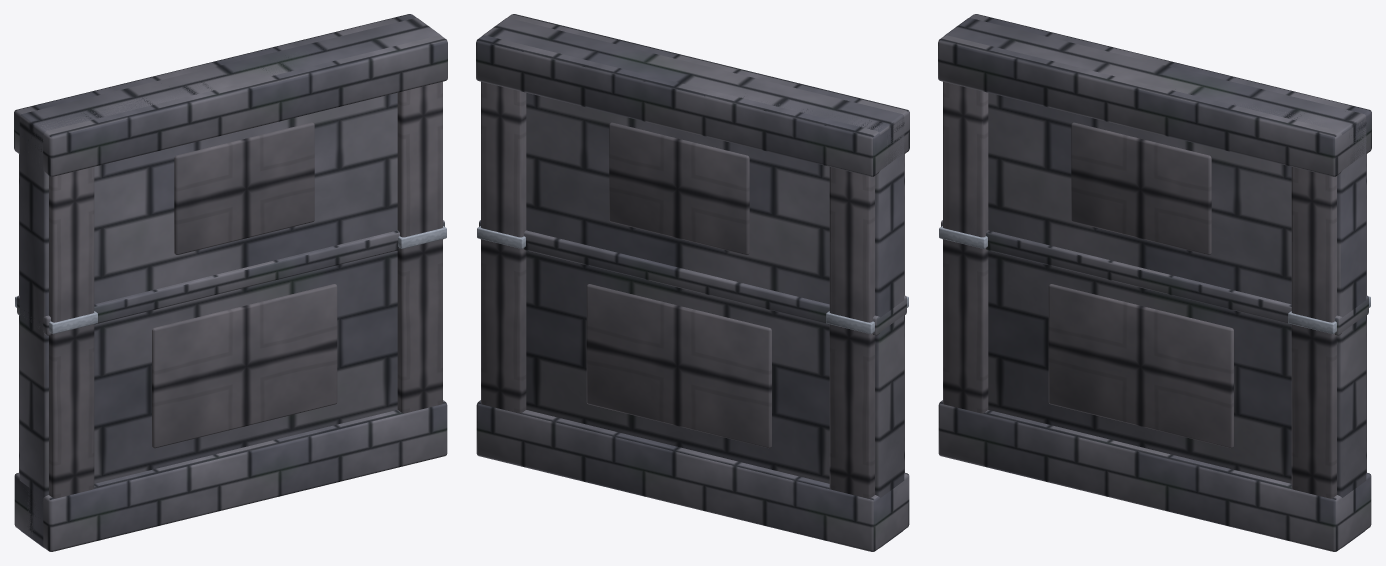
Rendered from wall_segment.glb.
The picture shows the model from 3 angles, left to right: view 1: azimuth 30°, elevation 25°; view 2: azimuth 150°, elevation 25°; view 3: azimuth 330°, elevation 25°; orthographic projection.
Visible parts, largest first — view 1: WallCore, BasePlinth, TopCornice, ReliefFrame, Buttress, Buttress.001, ReliefCarve, MidCourse, IronStrap, IronStrap.001; view 2: WallCore, BasePlinth, TopCornice, ReliefFrame, Buttress, Buttress.001, ReliefCarve, MidCourse, IronStrap, IronStrap.001; view 3: WallCore, BasePlinth, TopCornice, ReliefFrame, Buttress.001, Buttress, ReliefCarve, MidCourse, IronStrap.001, IronStrap.
Part boxes in pixels (x1,y1,x2,y2): WallCore: (19, 18, 441, 548); BasePlinth: (14, 400, 447, 551); TopCornice: (14, 14, 447, 176); ReliefFrame: (152, 284, 337, 448); Buttress: (19, 154, 94, 498); Buttress.001: (397, 81, 442, 413); ReliefCarve: (174, 122, 314, 254); MidCourse: (17, 220, 444, 335); IronStrap: (15, 296, 97, 333); IronStrap.001: (398, 226, 446, 248); WallCore: (482, 18, 904, 548); BasePlinth: (476, 400, 909, 551); TopCornice: (476, 14, 909, 176); ReliefFrame: (586, 284, 771, 448); Buttress: (829, 154, 904, 498); Buttress.001: (481, 81, 526, 413); ReliefCarve: (609, 122, 749, 254); MidCourse: (479, 220, 906, 335); IronStrap: (826, 296, 908, 333); IronStrap.001: (477, 226, 525, 248); WallCore: (944, 18, 1366, 548); BasePlinth: (938, 400, 1371, 551); TopCornice: (938, 14, 1371, 176); ReliefFrame: (1048, 284, 1233, 448); Buttress.001: (1291, 154, 1366, 498); Buttress: (943, 81, 988, 413); ReliefCarve: (1071, 122, 1211, 254); MidCourse: (941, 220, 1368, 335); IronStrap.001: (1288, 296, 1370, 333); IronStrap: (939, 226, 987, 248).
Bounding box in the file's own units: 4 × 4 × 0.66.
Materials: 4 (4 with a texture image).
